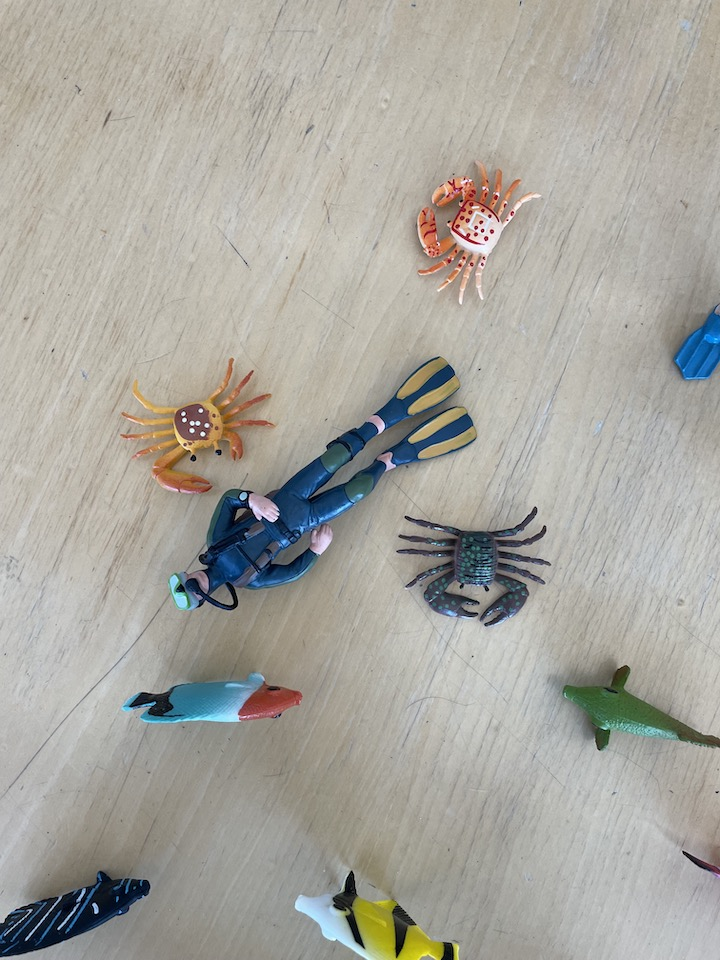crab: (121, 358, 278, 499), (414, 161, 542, 307), (397, 509, 554, 626)
danger: (292, 869, 462, 960)
diver: (167, 352, 480, 615), (673, 298, 720, 382)
fish: (558, 664, 720, 758), (1, 870, 153, 960), (122, 674, 306, 727), (683, 845, 720, 881)
